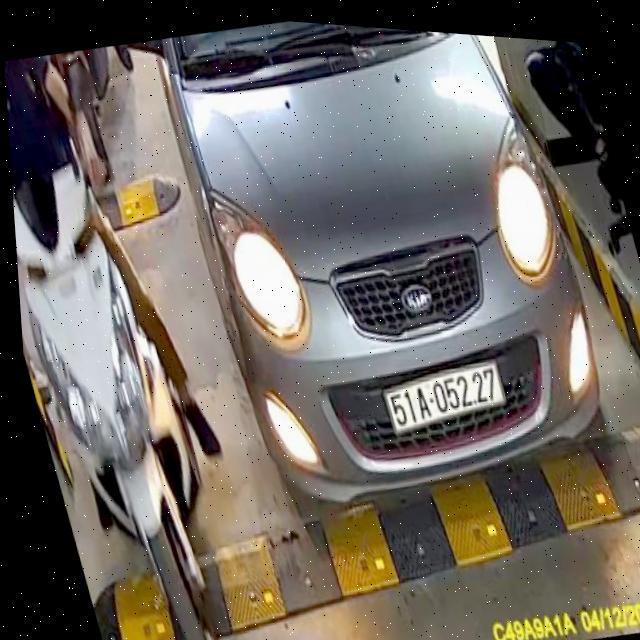car: (135, 10, 640, 554)
motorcycle: (10, 153, 268, 640)
plate: (373, 351, 518, 446)
